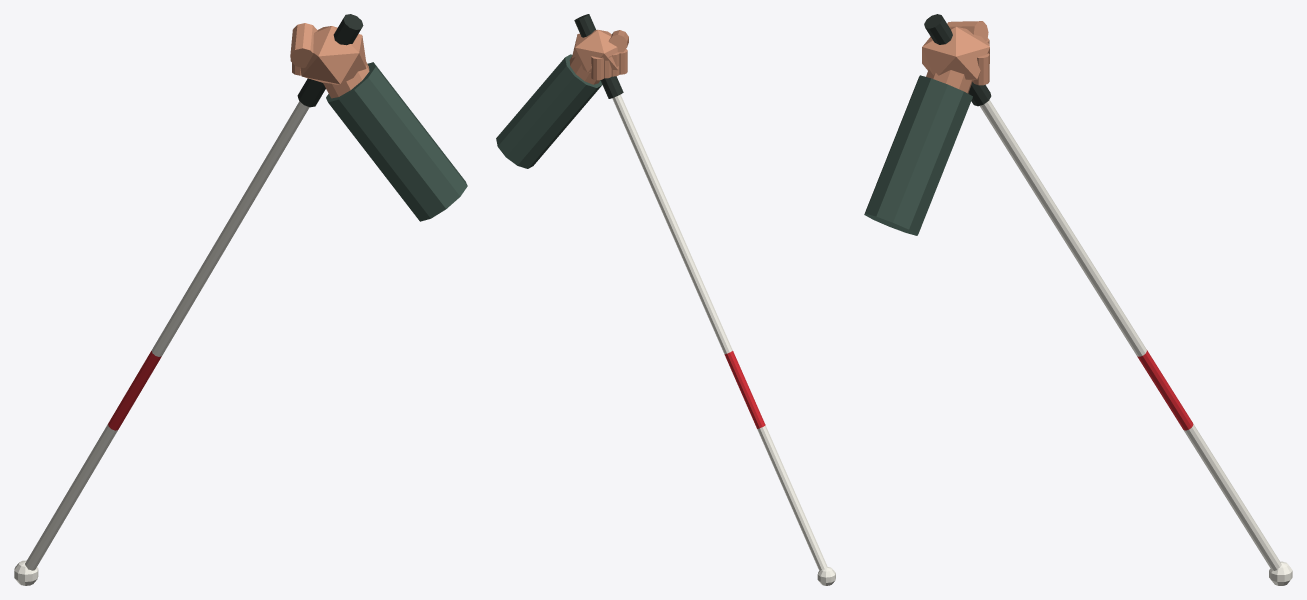
File: baston-mano.glb
3 renders of one model, left to right at view 1: azimuth 30°, elevation 25°; view 2: azimuth 210°, elevation 25°; view 3: azimuth 270°, elevation 25°, orthographic. The views are drawn at different scales.
Visible parts, largest first — view 1: Antebrazo, Mano en agarre, Empunadura, Tramo baston.002, Tramo baston.004, Tramo baston.001, Tramo baston.003, Tramo baston.005, Tramo baston.006, Pulgar; view 2: Antebrazo, Mano en agarre, Tramo baston.005, Tramo baston.001, Tramo baston.003, Tramo baston.002, Tramo baston.004, Tramo baston.006, Empunadura; view 3: Antebrazo, Mano en agarre, Tramo baston.005, Tramo baston.001, Tramo baston.002, Tramo baston.004, Tramo baston.003, Empunadura, Tramo baston.006, Muneca.
Part boxes in pixels (x1=…): Antebrazo: x1=326, y1=62, x2=467, y2=221; Mano en agarre: x1=300, y1=26, x2=366, y2=84; Empunadura: x1=297, y1=14, x2=363, y2=107; Tramo baston.002: x1=195, y1=203, x2=248, y2=283; Tramo baston.004: x1=108, y1=351, x2=161, y2=430; Tramo baston.001: x1=239, y1=130, x2=292, y2=209; Tramo baston.003: x1=151, y1=277, x2=205, y2=356; Tramo baston.005: x1=64, y1=424, x2=117, y2=503; Tramo baston.006: x1=25, y1=498, x2=74, y2=570; Pulgar: x1=290, y1=23, x2=317, y2=67; Antebrazo: x1=496, y1=54, x2=602, y2=168; Mano en agarre: x1=572, y1=29, x2=618, y2=72; Tramo baston.005: x1=757, y1=425, x2=798, y2=503; Tramo baston.001: x1=626, y1=127, x2=667, y2=204; Tramo baston.003: x1=692, y1=276, x2=732, y2=354; Tramo baston.002: x1=659, y1=201, x2=699, y2=279; Tramo baston.004: x1=724, y1=351, x2=765, y2=428; Tramo baston.006: x1=790, y1=500, x2=827, y2=570; Empunadura: x1=574, y1=14, x2=623, y2=98; Antebrazo: x1=864, y1=75, x2=972, y2=235; Mano en agarre: x1=922, y1=27, x2=989, y2=80; Tramo baston.005: x1=1183, y1=423, x2=1239, y2=504; Tramo baston.001: x1=998, y1=128, x2=1053, y2=209; Tramo baston.002: x1=1044, y1=202, x2=1100, y2=282; Tramo baston.004: x1=1137, y1=350, x2=1193, y2=430; Tramo baston.003: x1=1091, y1=276, x2=1146, y2=356; Empunadura: x1=924, y1=14, x2=991, y2=106; Tramo baston.006: x1=1230, y1=497, x2=1281, y2=570; Muneca: x1=926, y1=69, x2=972, y2=93.
Size of the model in its own units: 0.5451 by 1.4 by 0.8578.
